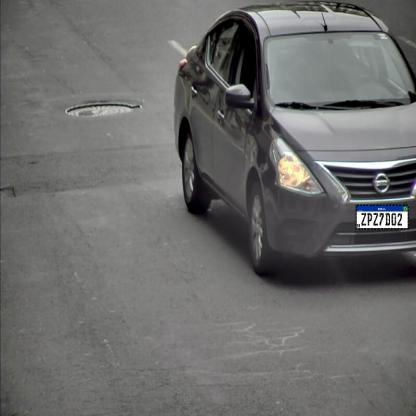PlacaM: (356, 204, 408, 230)
